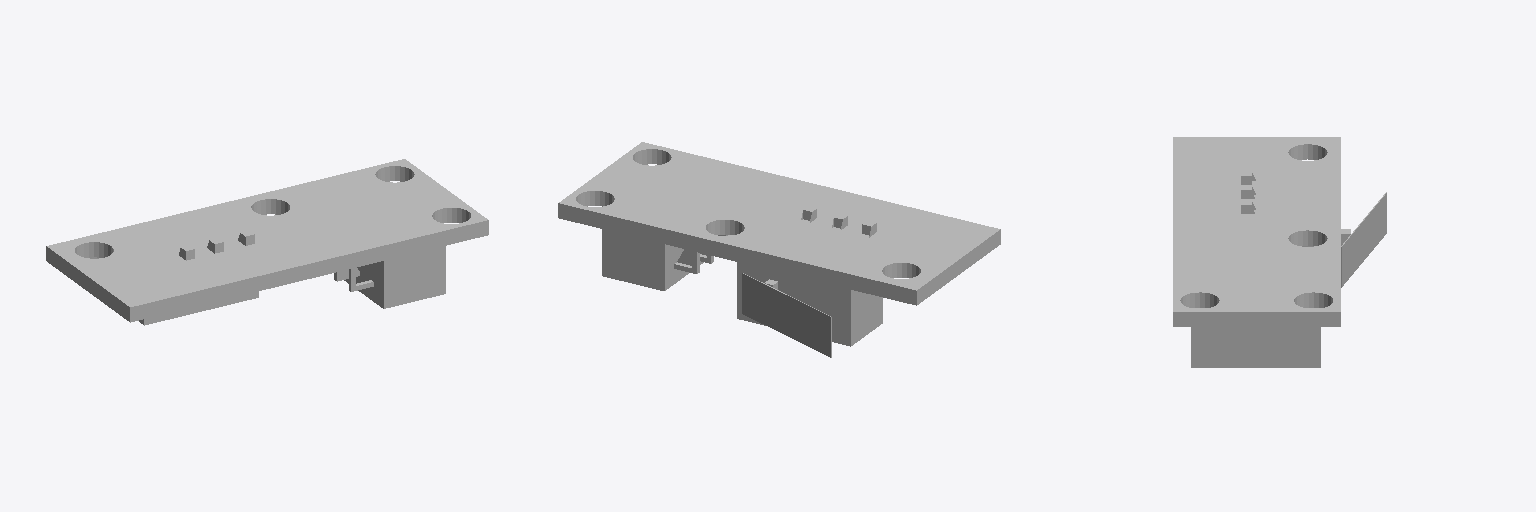
The model's file is microswitch endstop.obj.
3 views of the same model, side by side, from view 1: azimuth 30°, elevation 25°; view 2: azimuth 150°, elevation 25°; view 3: azimuth 270°, elevation 25° (orthographic).
Visible parts, largest first — view 1: Mesh23 G_3_pin_endstop_switch__1_1 Model, Mesh3 Group_32_1 G_3_pin_endstop_switch__1_1 Model, Mesh2 Group1 G_3_pin_endstop_switch__1_1 Model; view 2: Mesh23 G_3_pin_endstop_switch__1_1 Model, Mesh2 Group1 G_3_pin_endstop_switch__1_1 Model, Mesh3 Group_32_1 G_3_pin_endstop_switch__1_1 Model, Mesh1 Group2 Group1 G_3_pin_endstop_switch__1_1 Model; view 3: Mesh23 G_3_pin_endstop_switch__1_1 Model, Mesh3 Group_32_1 G_3_pin_endstop_switch__1_1 Model, Mesh1 Group2 Group1 G_3_pin_endstop_switch__1_1 Model, Mesh2 Group1 G_3_pin_endstop_switch__1_1 Model.
Boxes of the visible parts, box(x1,y1,x2,y2) form: Mesh23 G_3_pin_endstop_switch__1_1 Model: box(46, 159, 488, 322); Mesh3 Group_32_1 G_3_pin_endstop_switch__1_1 Model: box(334, 246, 445, 308); Mesh2 Group1 G_3_pin_endstop_switch__1_1 Model: box(139, 231, 258, 325); Mesh23 G_3_pin_endstop_switch__1_1 Model: box(558, 142, 1000, 305); Mesh2 Group1 G_3_pin_endstop_switch__1_1 Model: box(737, 206, 882, 346); Mesh3 Group_32_1 G_3_pin_endstop_switch__1_1 Model: box(602, 229, 731, 290); Mesh1 Group2 Group1 G_3_pin_endstop_switch__1_1 Model: box(742, 273, 831, 357); Mesh23 G_3_pin_endstop_switch__1_1 Model: box(1173, 137, 1340, 326); Mesh3 Group_32_1 G_3_pin_endstop_switch__1_1 Model: box(1191, 308, 1320, 367); Mesh1 Group2 Group1 G_3_pin_endstop_switch__1_1 Model: box(1341, 192, 1386, 287); Mesh2 Group1 G_3_pin_endstop_switch__1_1 Model: box(1241, 172, 1350, 246).
Size of the model in its own units: 39.5 by 8.6 by 20.41.